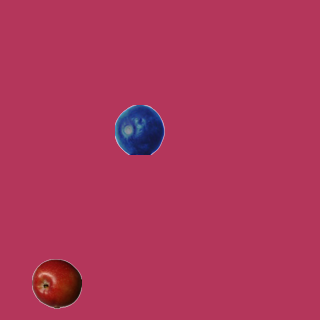Apple Braeburn: (31, 258, 81, 308)
Huckleberry: (114, 104, 164, 154)
